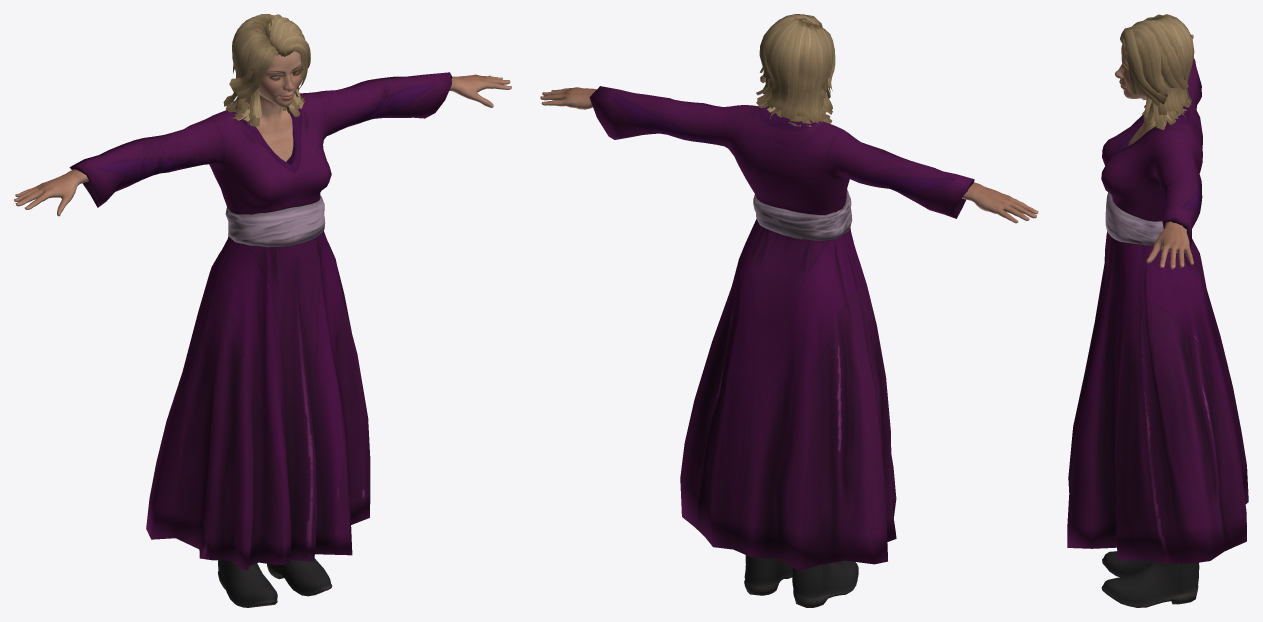
Rendered from spell seller.obj.
3 renders of one model, left to right at view 1: azimuth 30°, elevation 25°; view 2: azimuth 150°, elevation 25°; view 3: azimuth 270°, elevation 25°, orthographic.
Visible parts, largest first — view 1: Tops, Body, Hair, Shoes; view 2: Tops, Hair, Shoes, Body; view 3: Tops, Hair, Shoes, Body.
Boxes of the visible parts, x1,y1,x2,y2 form: Tops: [69, 72, 452, 570]; Body: [14, 51, 511, 216]; Hair: [223, 14, 310, 126]; Shoes: [218, 558, 332, 607]; Tops: [589, 86, 974, 571]; Hair: [756, 14, 835, 126]; Shoes: [744, 555, 858, 607]; Body: [540, 87, 1038, 223]; Tops: [1067, 58, 1248, 563]; Hair: [1120, 14, 1194, 129]; Shoes: [1101, 551, 1199, 607]; Body: [1115, 34, 1193, 269].
Bounding box in the file's own units: 164 × 180 × 52.25.
4 materials, 4 textured.
